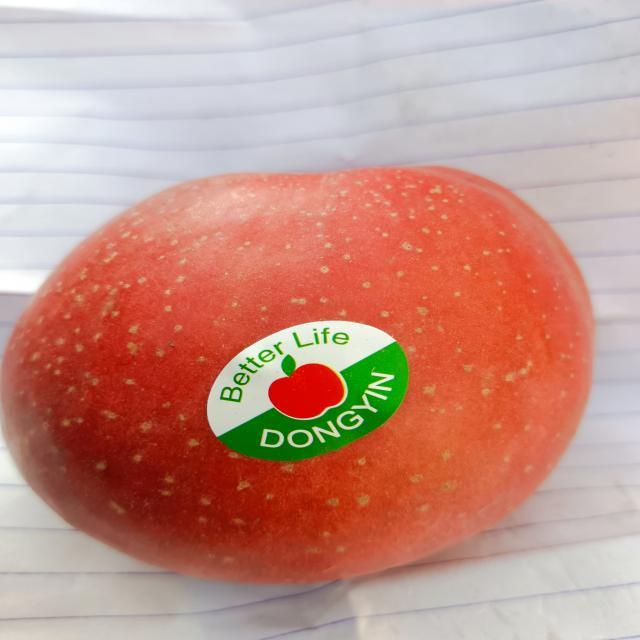Fresh Apple: (2, 158, 598, 584)
